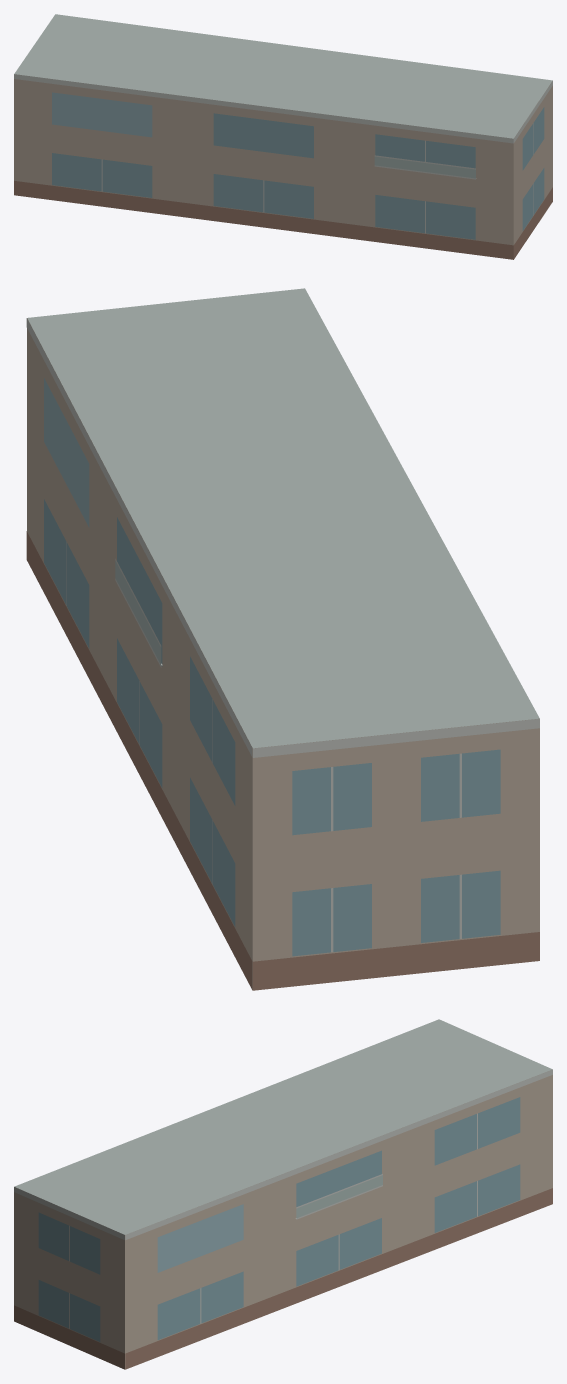
File: survey-upis-32721882.glb
3 renders of one model, top to bottom at view 1: azimuth 30°, elevation 25°; view 2: azimuth 150°, elevation 25°; view 3: azimuth 270°, elevation 25°, orthographic. The views are drawn at different scales.
Visible parts, largest first — view 1: survey-upis-32721882.tmp; view 2: survey-upis-32721882.tmp; view 3: survey-upis-32721882.tmp.
Part boxes in pixels (x1,y1,x2,y2): survey-upis-32721882.tmp: (14,14,552,259); survey-upis-32721882.tmp: (26,288,539,990); survey-upis-32721882.tmp: (14,1019,552,1369).
Size of the model in its own units: 20.96 by 6.1 by 22.12.
